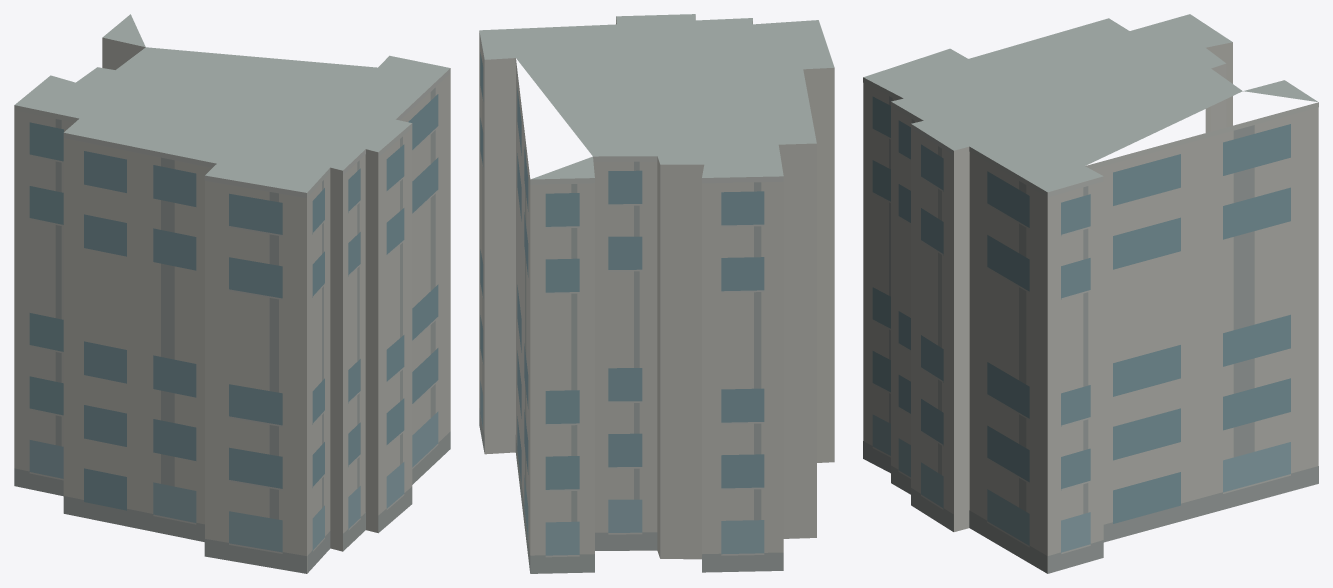
Rendered from survey-upis-32811976.glb.
3 renders of one model, left to right at view 1: azimuth 30°, elevation 25°; view 2: azimuth 150°, elevation 25°; view 3: azimuth 270°, elevation 25°, orthographic. The views are drawn at different scales.
Parts seen in each view (by area): view 1: survey-upis-32811976.tmp; view 2: survey-upis-32811976.tmp; view 3: survey-upis-32811976.tmp.
Boxes of the visible parts, left/top/right/bottom form: survey-upis-32811976.tmp: left=14, top=14, right=450, bottom=573; survey-upis-32811976.tmp: left=479, top=14, right=834, bottom=573; survey-upis-32811976.tmp: left=863, top=14, right=1318, bottom=573.
Bounding box in the file's own units: 17.81 × 17.75 × 19.22.
